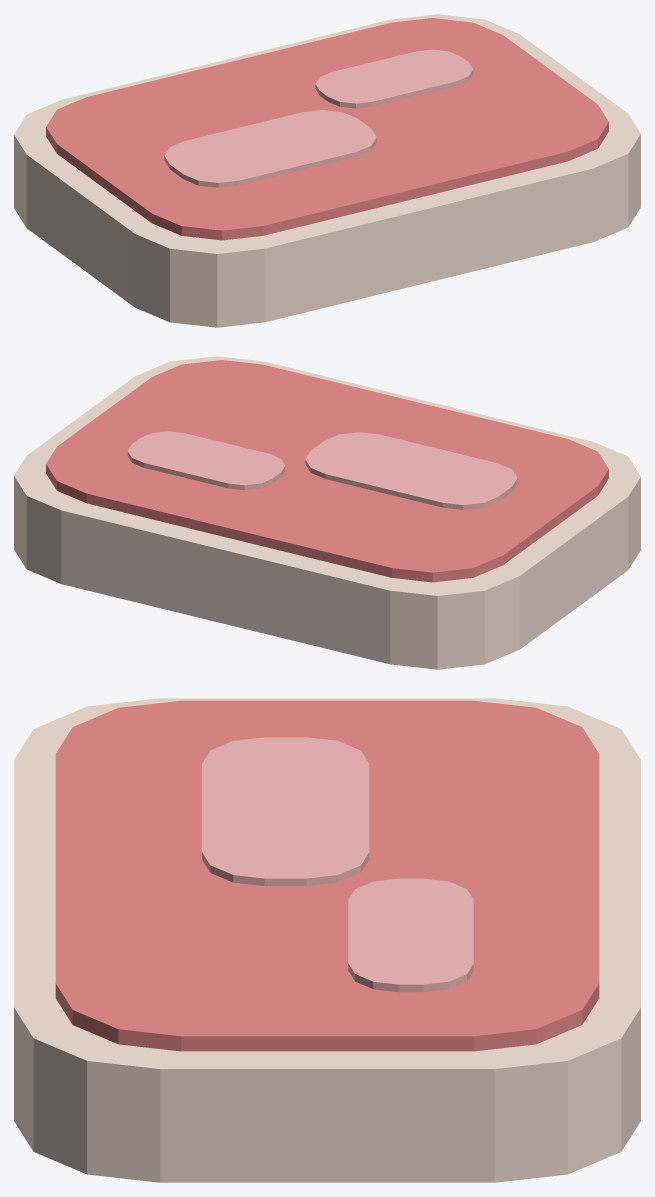
File: Food_Ham.obj
3 views of the same model, one above another, from view 1: azimuth 30°, elevation 25°; view 2: azimuth 150°, elevation 25°; view 3: azimuth 270°, elevation 25° (orthographic). The views are drawn at different scales.
Bounding box in the file's own units: 2.1 × 0.36 × 1.5.
